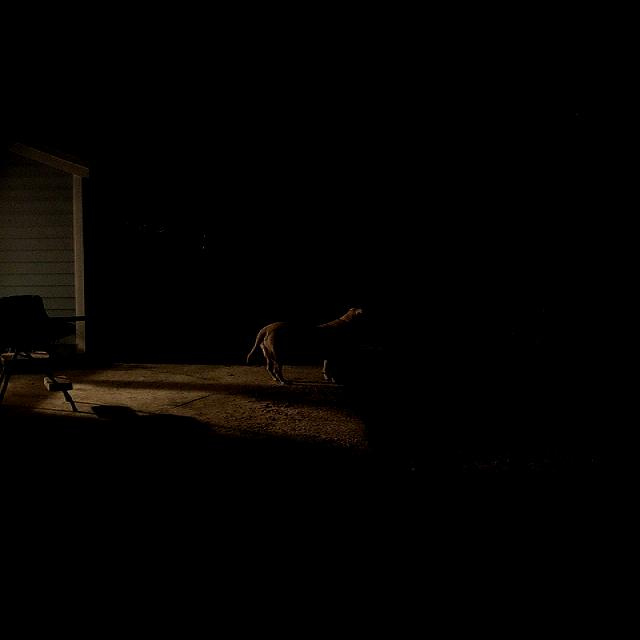Dog: (157, 278, 500, 440)
